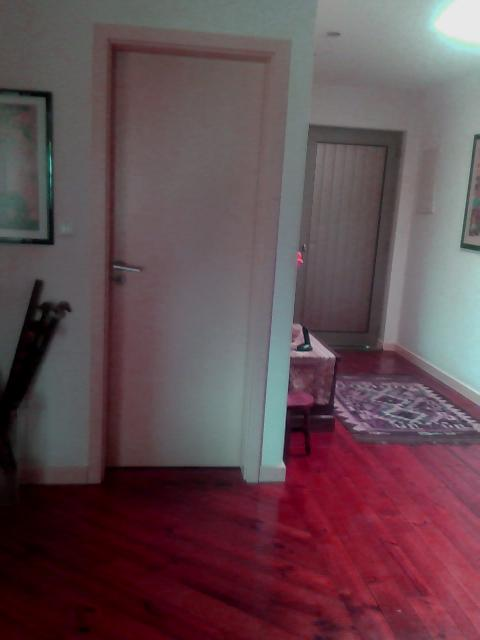closed_door: (87, 17, 281, 482), (291, 123, 405, 316)
